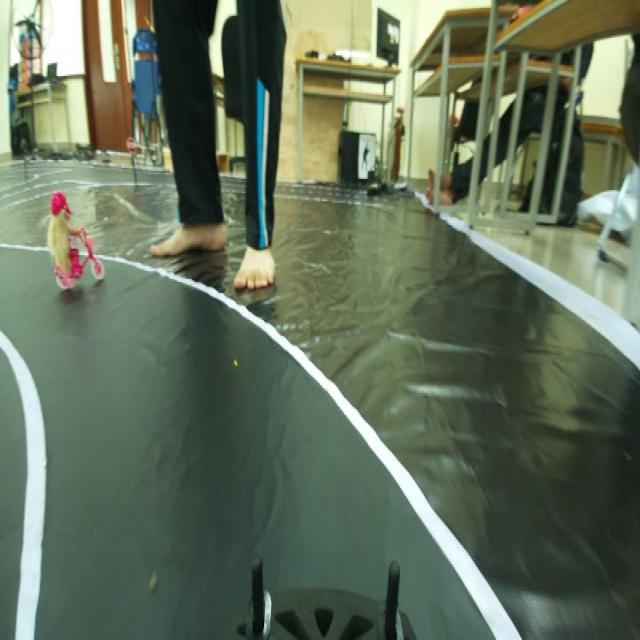pedestrian: (31, 186, 102, 299)
